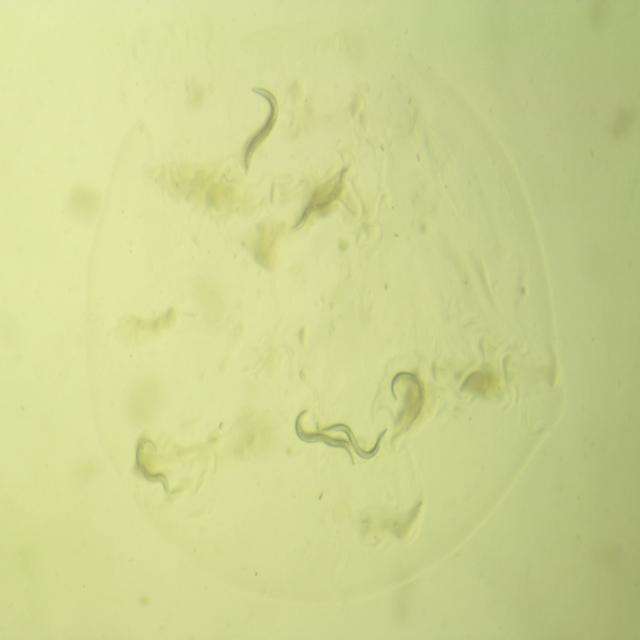worm: (229, 68, 288, 186), (284, 153, 356, 244), (372, 352, 433, 454), (291, 400, 361, 475), (120, 416, 180, 501), (311, 411, 395, 469)
